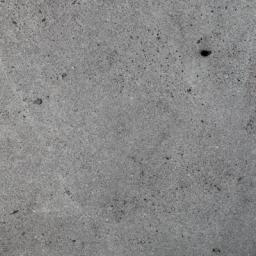FOD: (197, 46, 216, 60)
